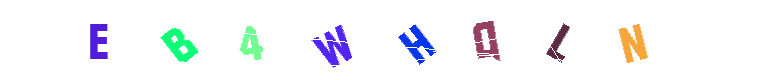4: (201, 0, 281, 80)
B: (199, 0, 279, 80)
E: (139, 0, 219, 80)
H: (351, 0, 431, 80)
L: (473, 0, 553, 80)
N: (593, 0, 673, 80)
Q: (377, 0, 457, 80)
W: (332, 0, 412, 80)
